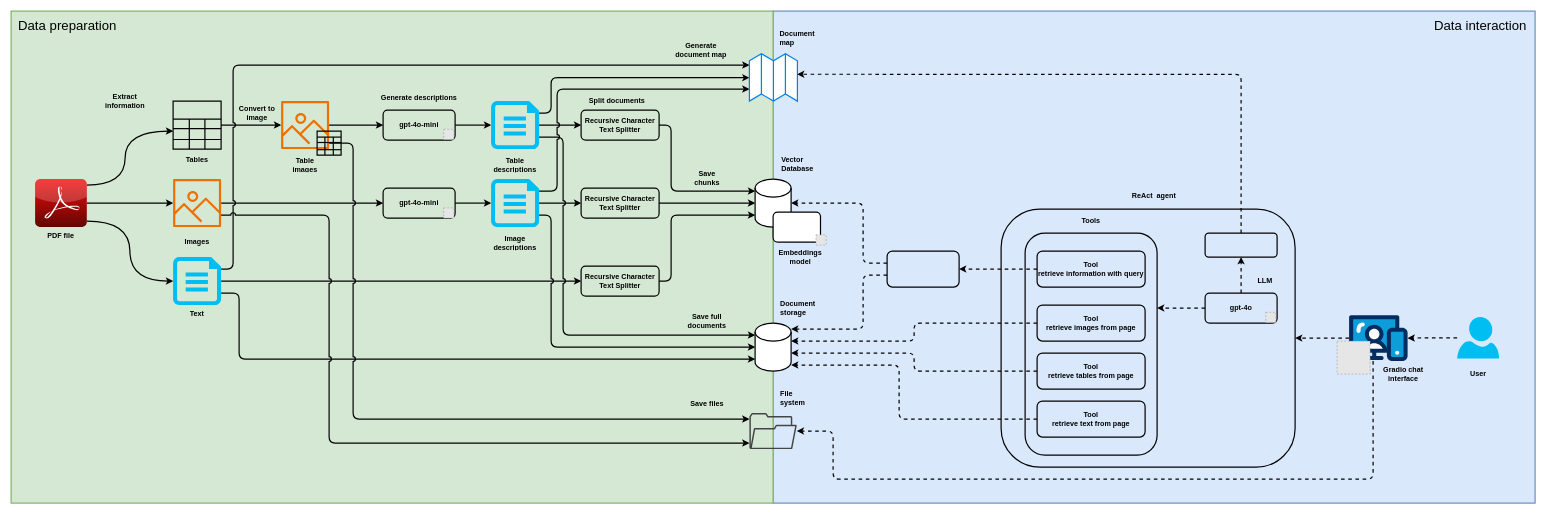
Image size: 1546x514. Some labels were removed from this diagram. Grey dashed boxes stand in for pictures. The centre of each missing label's shape, as x and y in pixels:
"Parent Document Retriever" goes at [922,268].
"System prompt" goes at [1240,244].
"Table" goes at [196,124].
"text-embedding-3-small" goes at [796,226].
